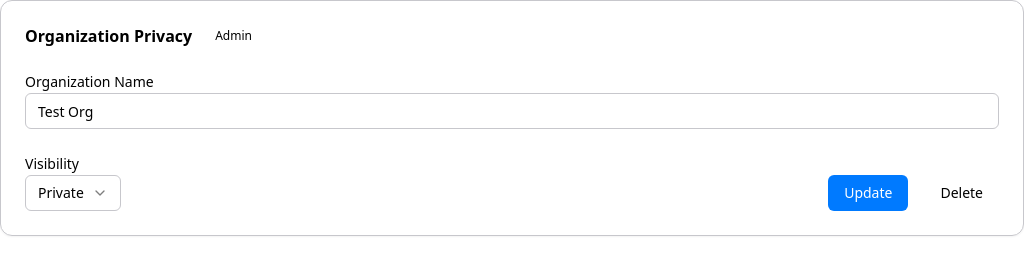
OrganizationPrivacyCard › should show validation error if name is empty on submit
Clear the field labelled "Organization Name" at (512, 111), box [25, 93, 999, 129]
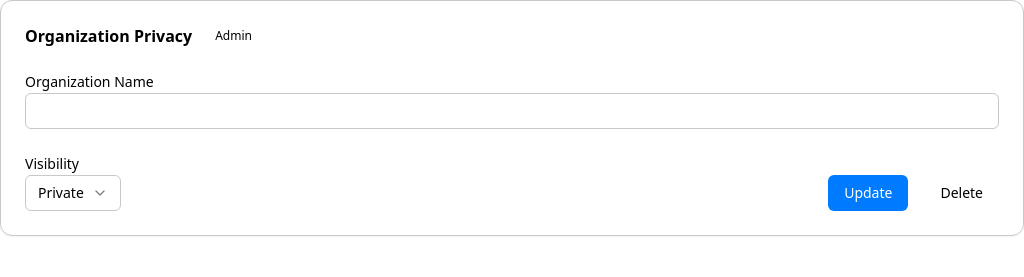
Click the button "Update" at (868, 193), box [828, 175, 908, 211]
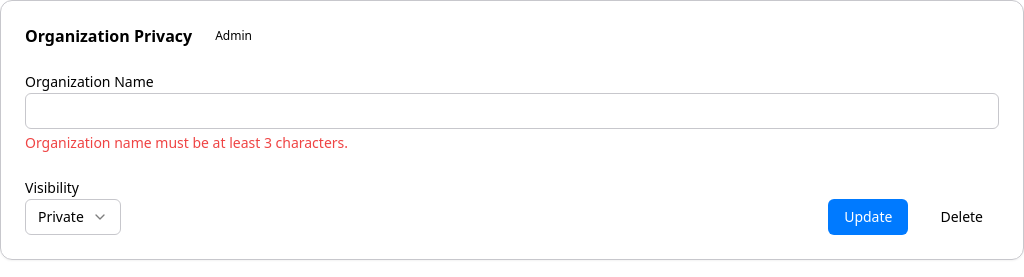
Now the text "Organization name must be at least 3 characters." is shown, box [25, 133, 348, 152]
